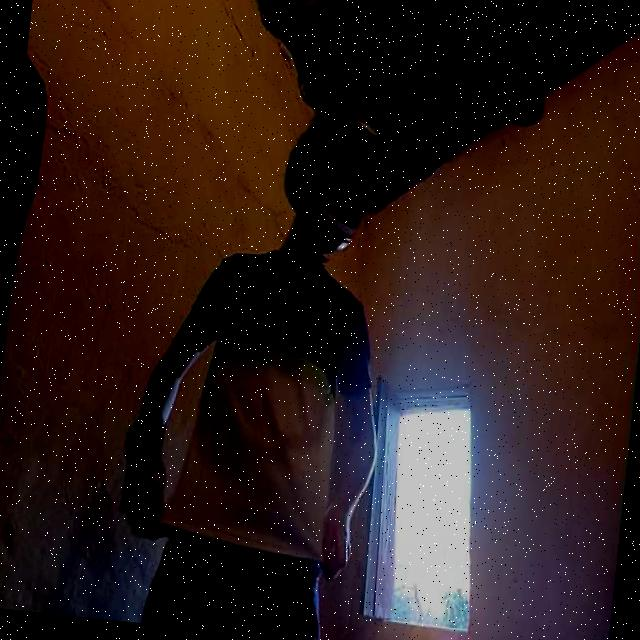capacete: (279, 92, 400, 252)
pessoa: (112, 138, 399, 640)
